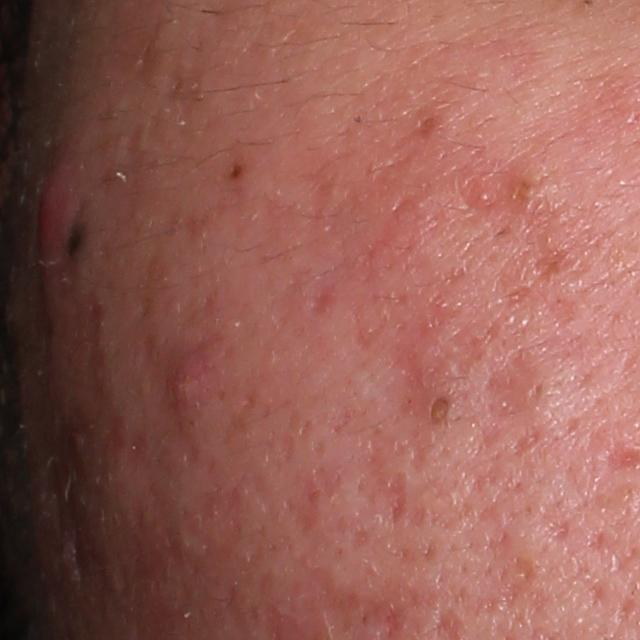atrophic_scar: (456, 556, 538, 623), (306, 281, 343, 320)
comedo: (425, 393, 453, 429)
nevus: (59, 211, 92, 272), (226, 164, 246, 185)
papule: (161, 345, 223, 425)
